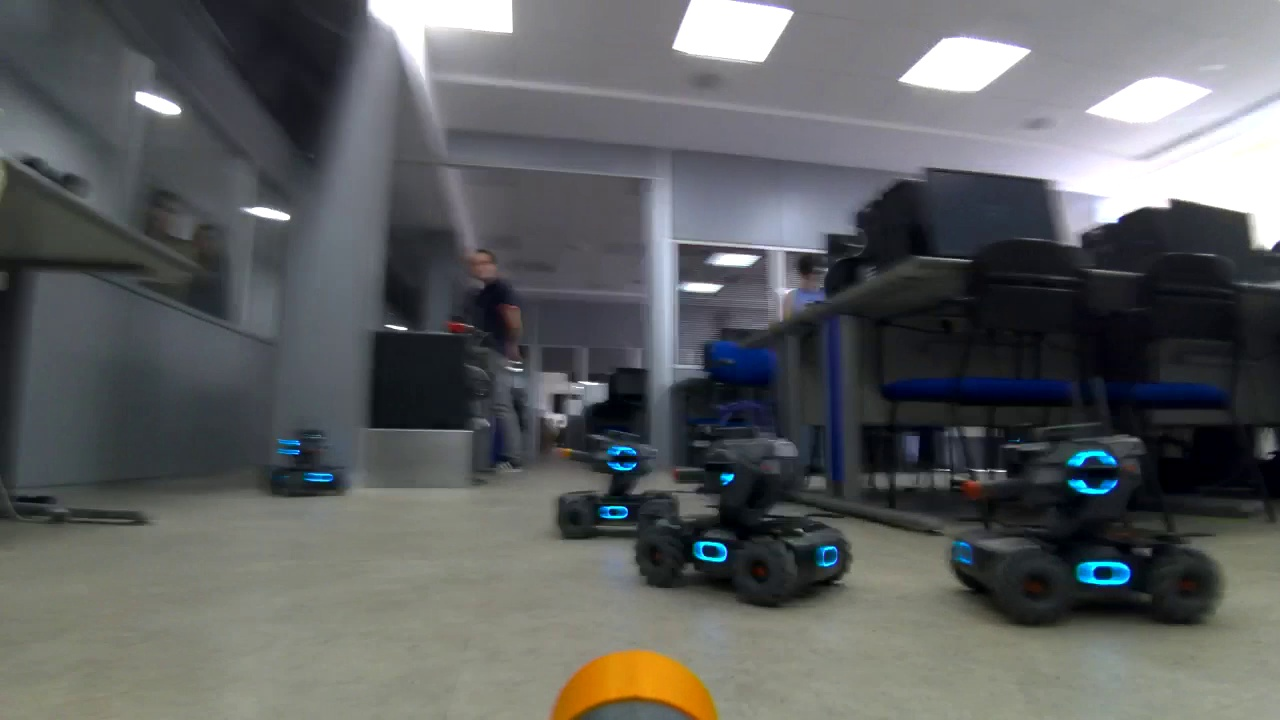robot: (936, 403, 1231, 635), (623, 415, 858, 614), (544, 416, 684, 539), (258, 425, 362, 497)
